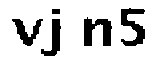5: (118, 5, 148, 49)
j: (40, 6, 67, 60)
n: (77, 12, 116, 52)
v: (9, 17, 45, 47)
